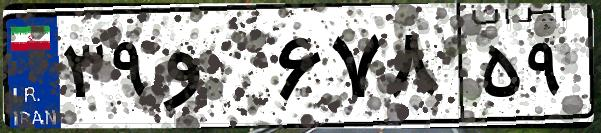3: (57, 26, 110, 100)
5: (475, 38, 525, 113)
6: (270, 28, 330, 110)
7: (330, 28, 385, 110)
8: (385, 28, 445, 110)
9: (525, 38, 570, 115), (110, 28, 158, 98)
و: (158, 20, 270, 120)
